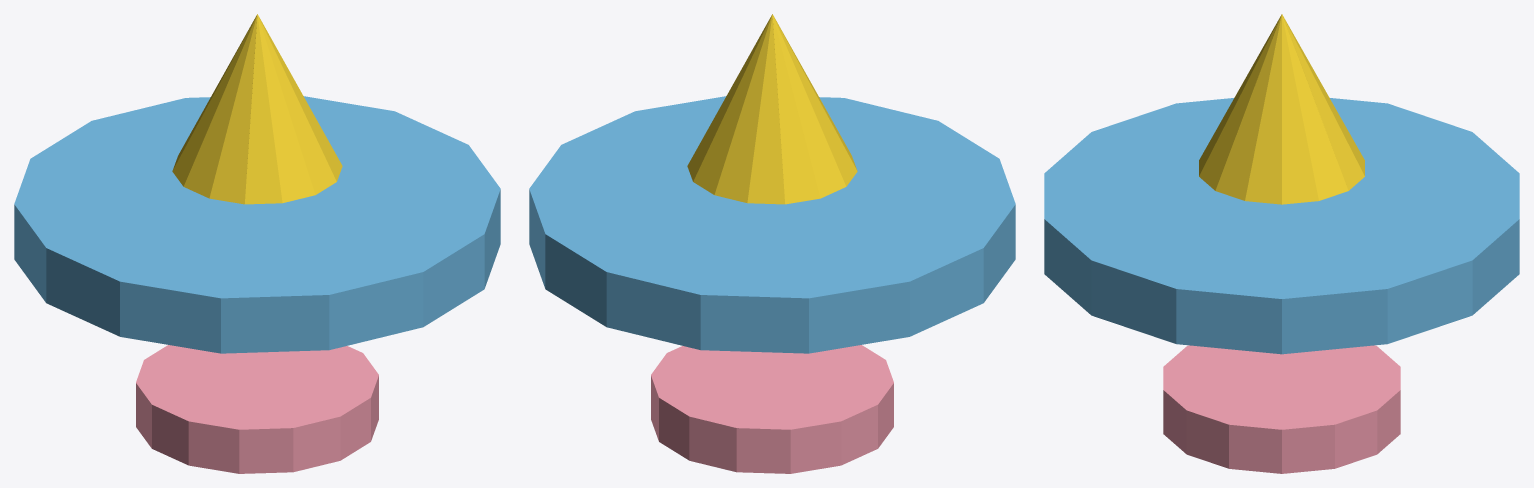
The model's file is Item_Pacifier.obj.
3 renders of one model, left to right at view 1: azimuth 30°, elevation 25°; view 2: azimuth 150°, elevation 25°; view 3: azimuth 270°, elevation 25°, orthographic.
Visible parts, largest first — view 1: Item_Pacifier; view 2: Item_Pacifier; view 3: Item_Pacifier.
Part boxes in pixels (left/top/right/bottom): Item_Pacifier: left=14, top=14, right=500, bottom=473; Item_Pacifier: left=529, top=14, right=1015, bottom=473; Item_Pacifier: left=1044, top=14, right=1519, bottom=473.
Bounding box in the file's own units: 0.4 × 0.37 × 0.39.
